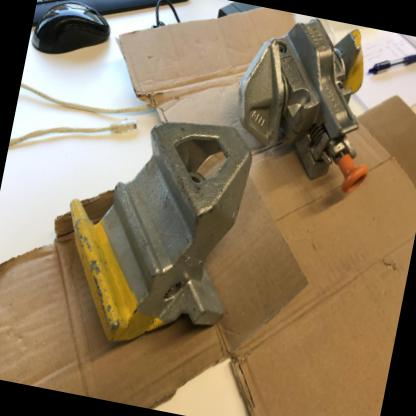Twistlock: (41, 86, 267, 373), (218, 4, 396, 200)
